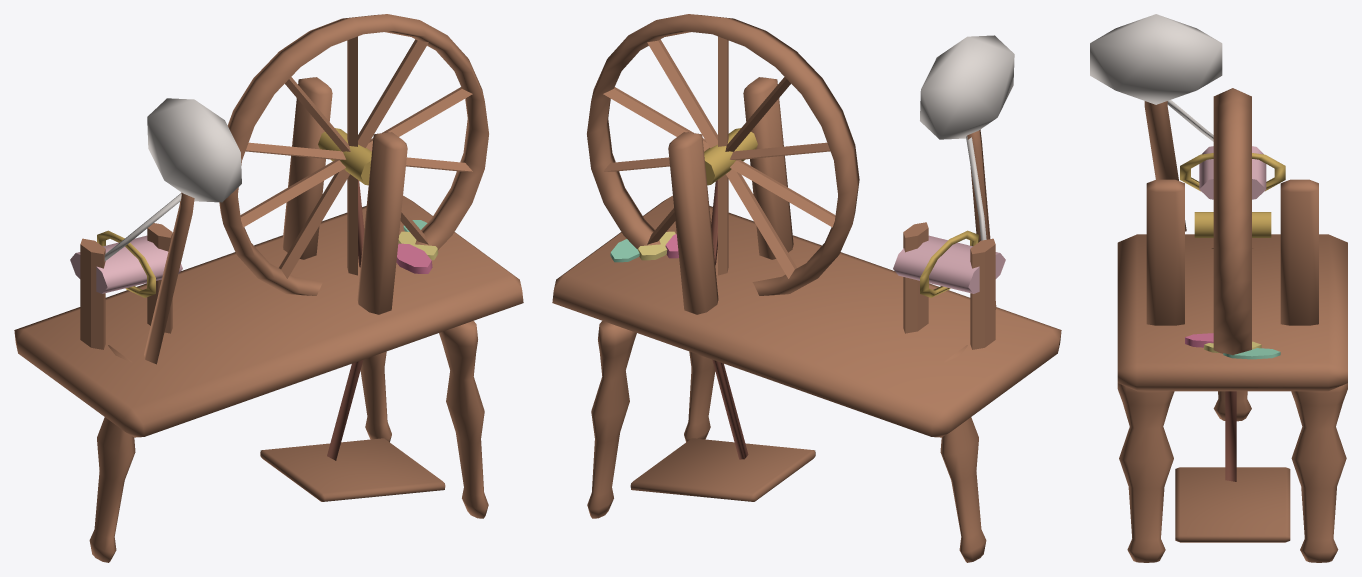
File: spinning_wheel.glb
3 renders of one model, left to right at view 1: azimuth 30°, elevation 25°; view 2: azimuth 150°, elevation 25°; view 3: azimuth 270°, elevation 25°, orthographic. The views are drawn at different scales.
Visible parts, largest first — view 1: spinning_wheel; view 2: spinning_wheel; view 3: spinning_wheel.
Boxes of the visible parts, x1,y1,x2,y2 form: spinning_wheel: [14, 14, 523, 562]; spinning_wheel: [552, 14, 1061, 562]; spinning_wheel: [1090, 14, 1347, 562].
Size of what is drawn, in the model's own units: 1 by 1.1 by 0.6.
